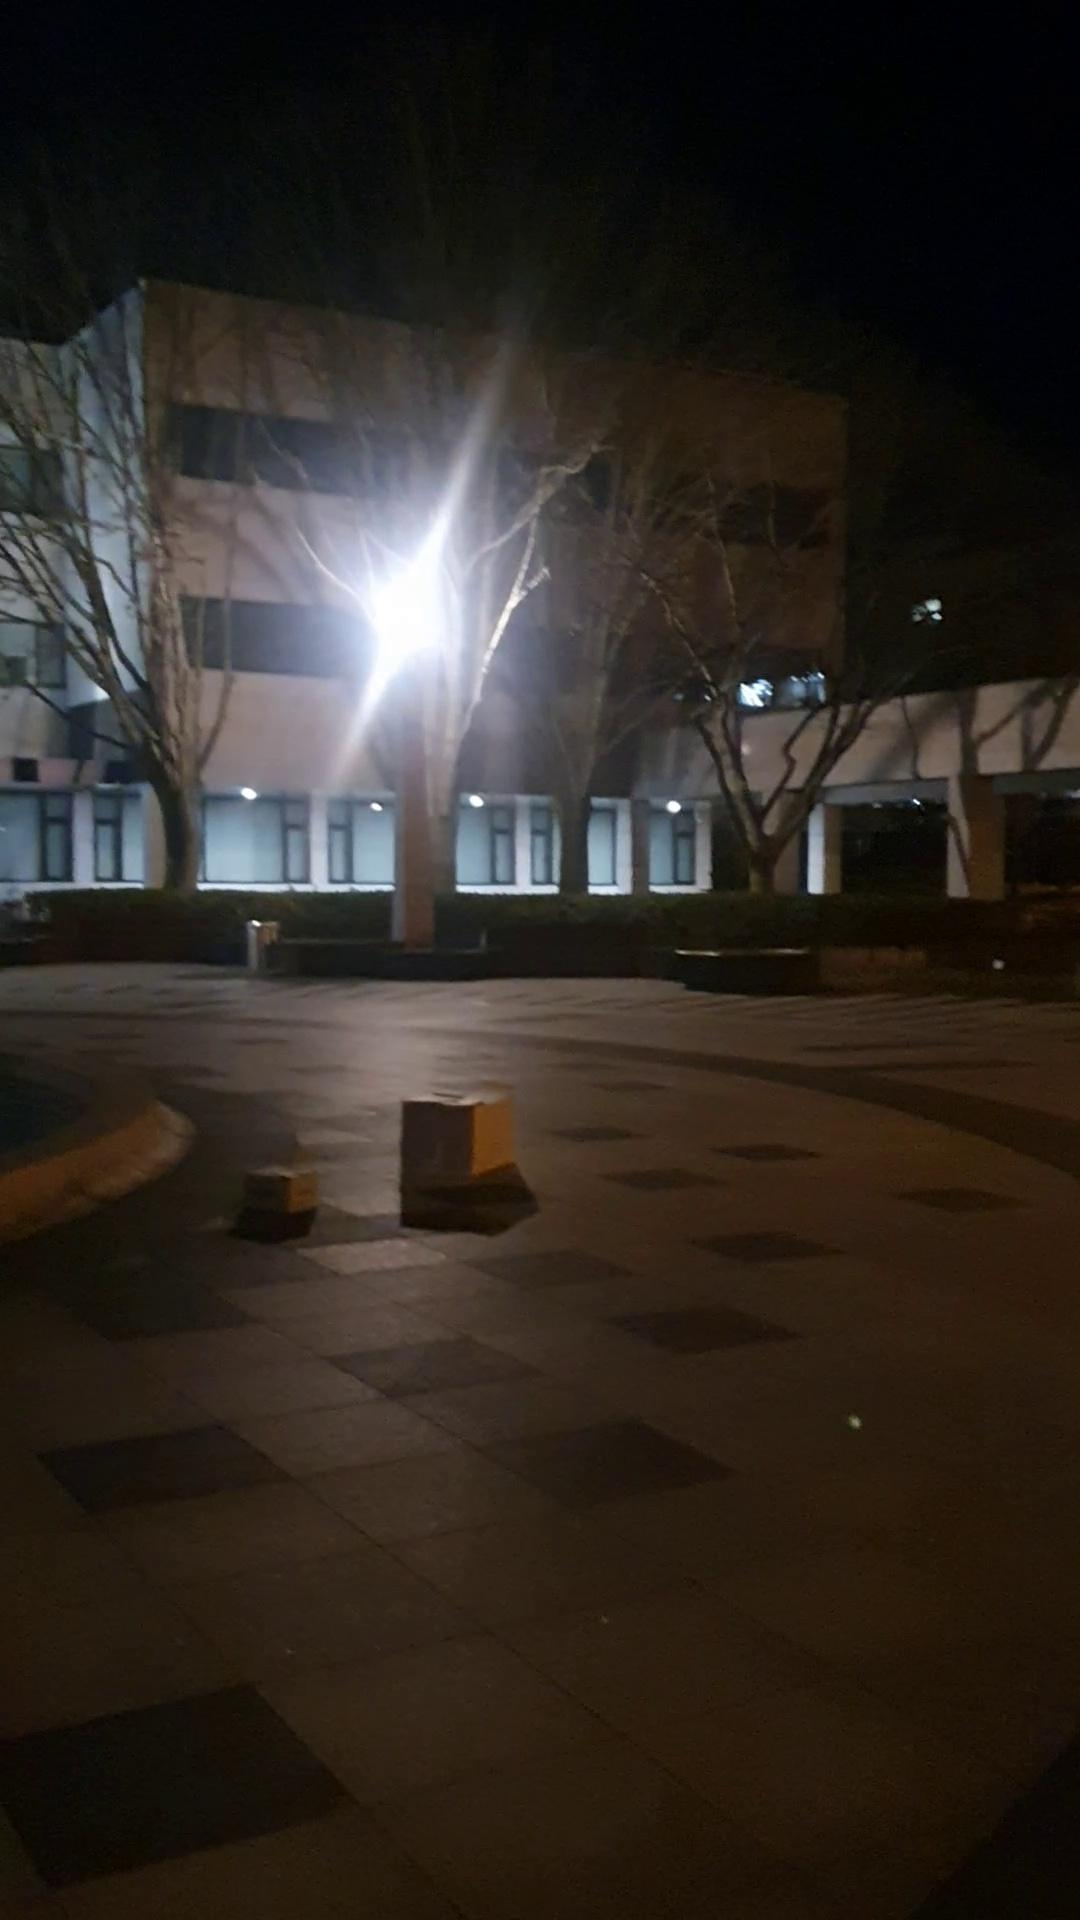Box: (386, 1088, 533, 1203), (233, 1163, 332, 1236)
